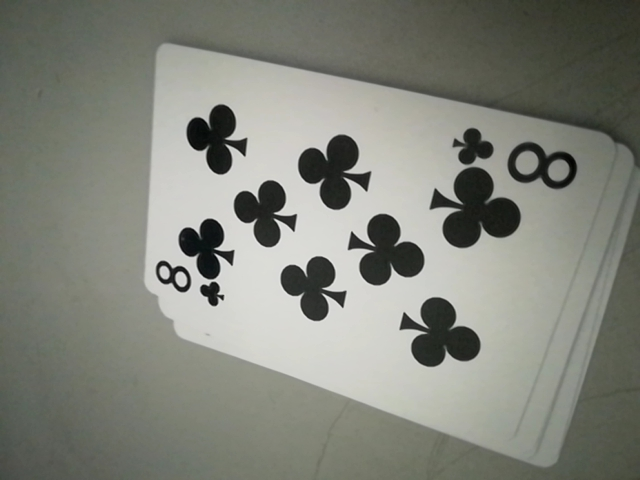mh 8: (450, 126, 582, 187), (153, 261, 224, 313)
